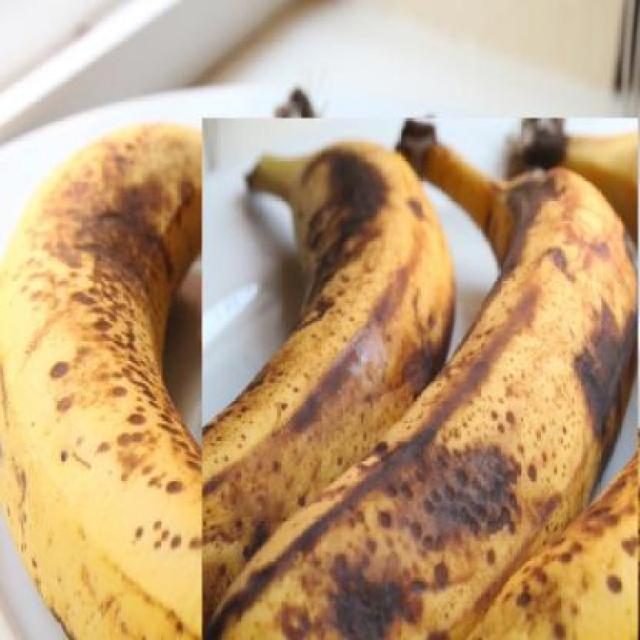Banana: (201, 117, 637, 640), (2, 86, 320, 640)
